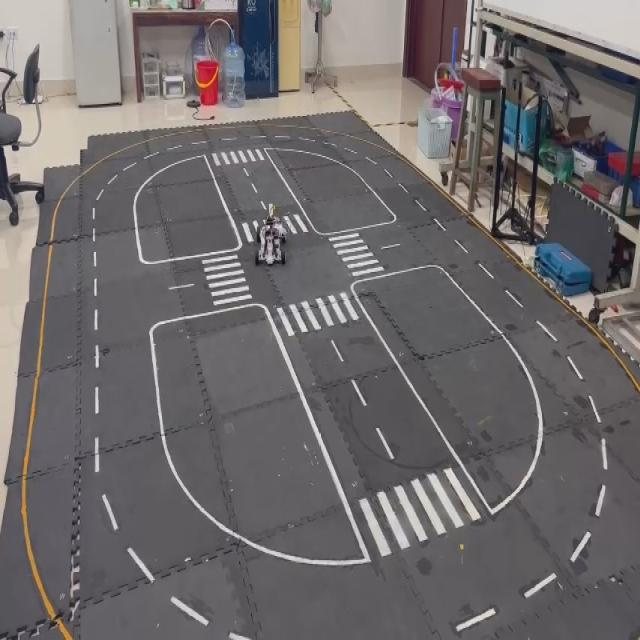SiCo-CAR: (253, 202, 288, 266)
